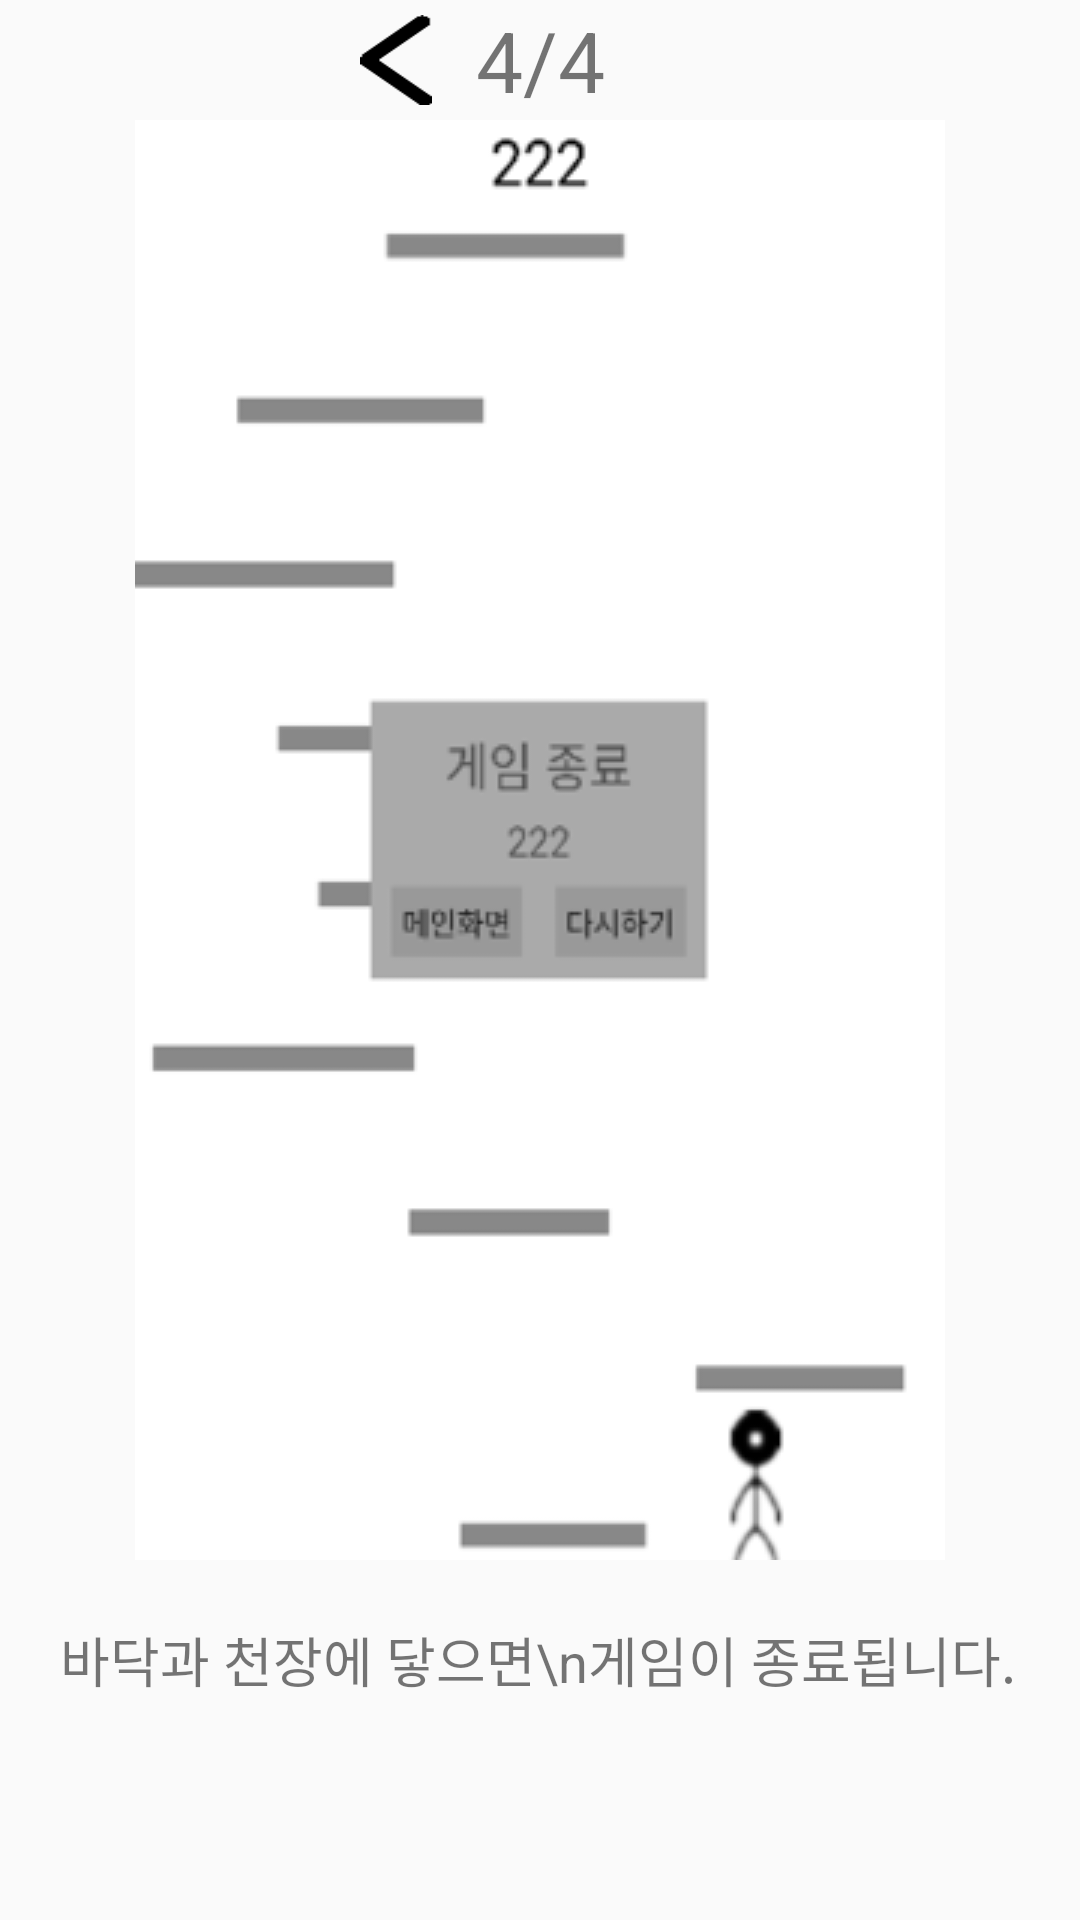

Where to tap for icons on this 1080x1920 app screen, as (x=x, y=y):
beforepage: (x=396, y=60)
